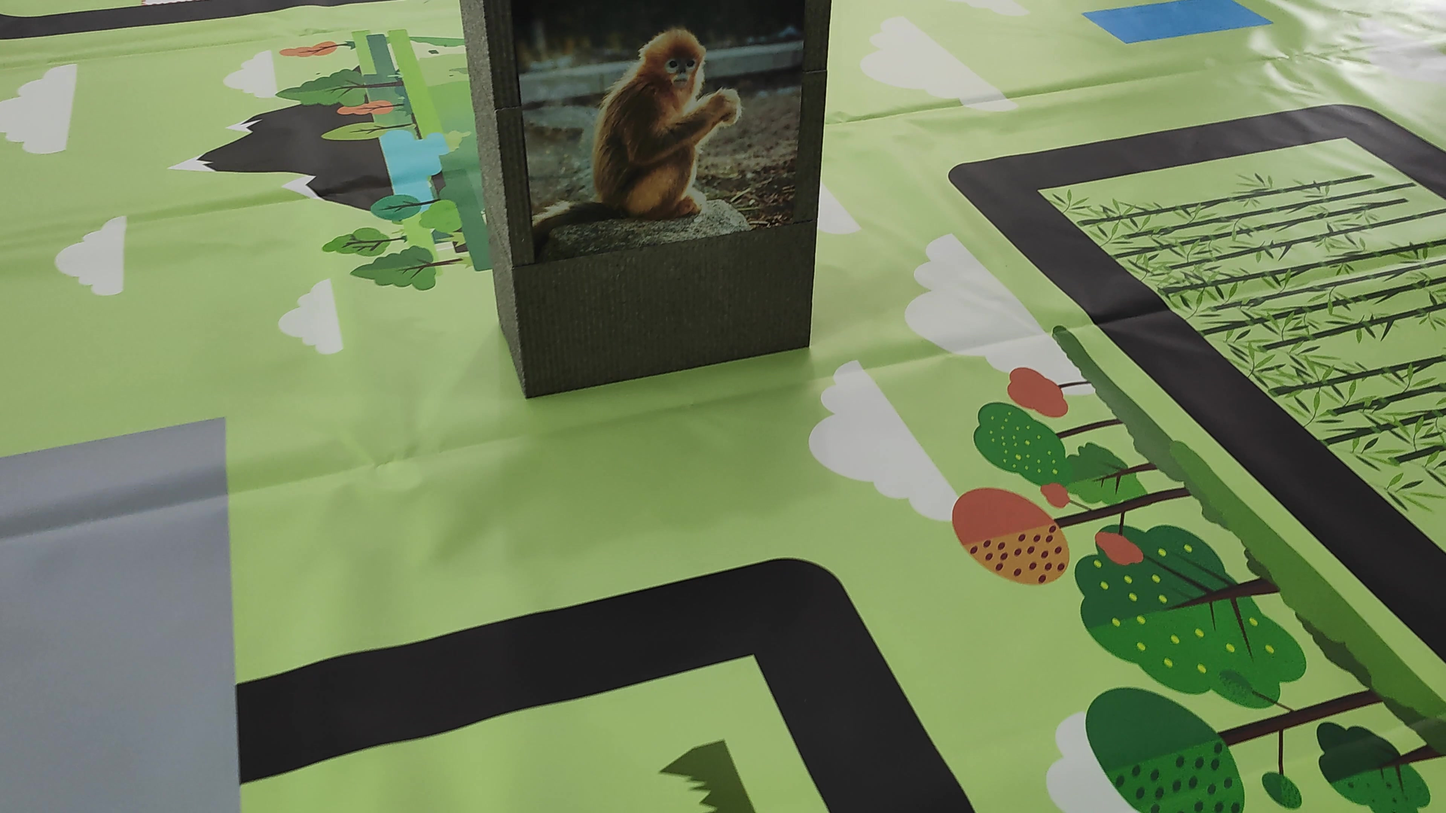monkey: (519, 21, 789, 262)
